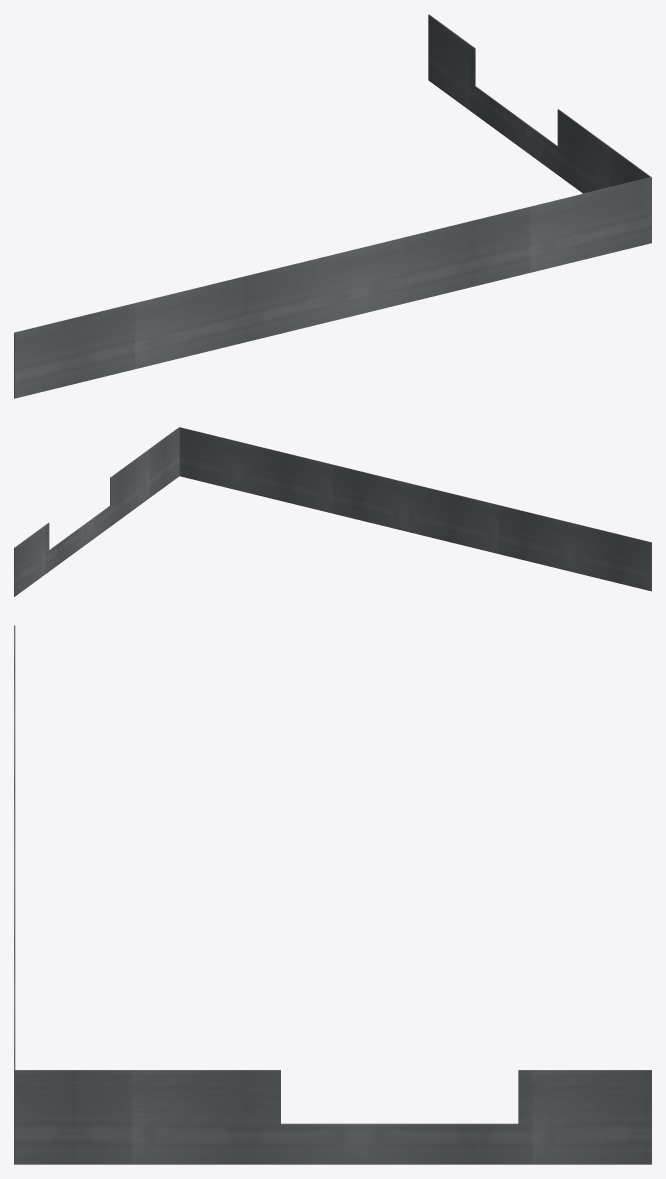
The model's file is BP_CatchIISiliconGloss.glb.
3 renders of one model, top to bottom at view 1: azimuth 30°, elevation 25°; view 2: azimuth 150°, elevation 25°; view 3: azimuth 270°, elevation 25°, orthographic. The views are drawn at different scales.
Visible parts, largest first — view 1: BP_Catch II Silicon Gloss.; view 2: BP_Catch II Silicon Gloss.; view 3: BP_Catch II Silicon Gloss..
Part boxes in pixels (x1,y1,x2,y2): BP_Catch II Silicon Gloss.: (14, 14, 651, 398); BP_Catch II Silicon Gloss.: (14, 427, 651, 596); BP_Catch II Silicon Gloss.: (14, 625, 651, 1164).
Bounding box in the file's own units: 7.1 × 0.7 × 4.3.
1 material, 1 textured.
